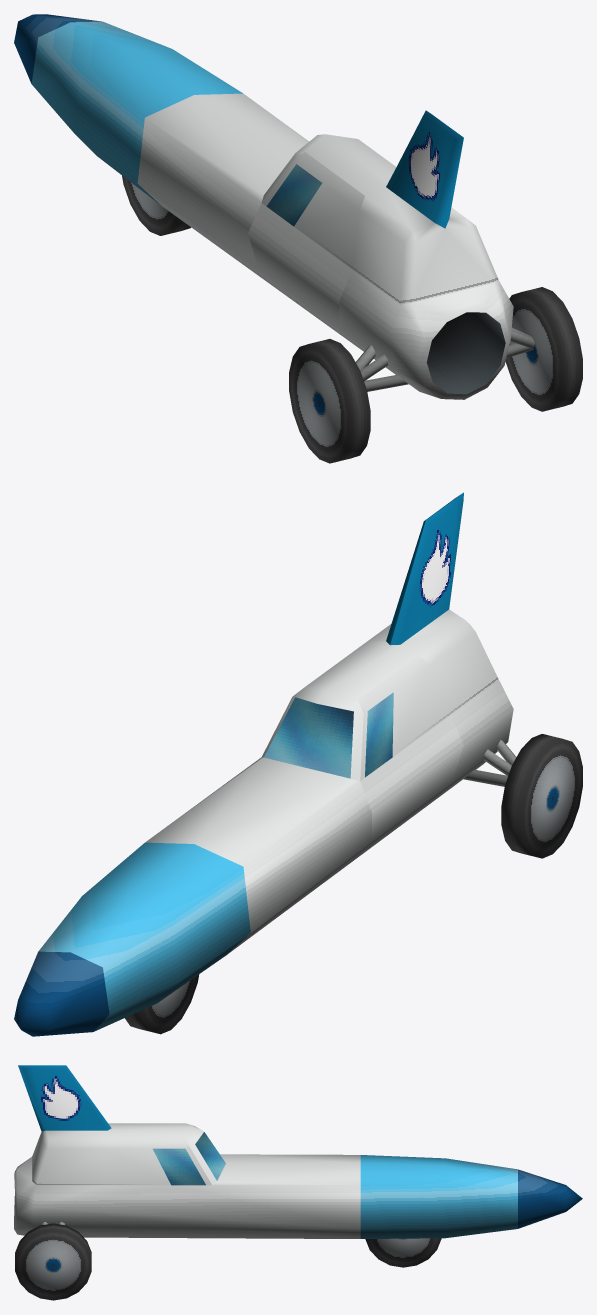
File: rocketcar.obj
3 renders of one model, top to bottom at view 1: azimuth 30°, elevation 25°; view 2: azimuth 150°, elevation 25°; view 3: azimuth 270°, elevation 25°, orthographic. The views are drawn at different scales.
Parts seen in each view (by area): view 1: rocke_vShape, DoorDRotShape, wShape0, wShape0_001, DoorDWindShape; view 2: rocke_vShape, DoorDRotShape, wShape0, windShape, DoorDWindShape; view 3: rocke_vShape, wShape0_001, wind2Shape, windShape.
Boxes of the visible parts, x1=… form: rocke_vShape: x1=14, y1=14, x2=534, y2=399; DoorDRotShape: x1=248, y1=152, x2=364, y2=334; wShape0: x1=289, y1=339, x2=370, y2=463; wShape0_001: x1=505, y1=287, x2=582, y2=411; DoorDWindShape: x1=266, y1=164, x2=321, y2=226; rocke_vShape: x1=14, y1=492, x2=516, y2=1036; DoorDRotShape: x1=358, y1=656, x2=463, y2=849; wShape0: x1=501, y1=734, x2=582, y2=858; windShape: x1=264, y1=697, x2=353, y2=778; DoorDWindShape: x1=365, y1=692, x2=393, y2=777; rocke_vShape: x1=14, y1=1065, x2=582, y2=1267; wShape0_001: x1=15, y1=1223, x2=91, y2=1300; wind2Shape: x1=153, y1=1148, x2=205, y2=1185; windShape: x1=195, y1=1132, x2=225, y2=1180.
Bounding box in the file's own units: 2.2 × 2.82 × 7.31.
